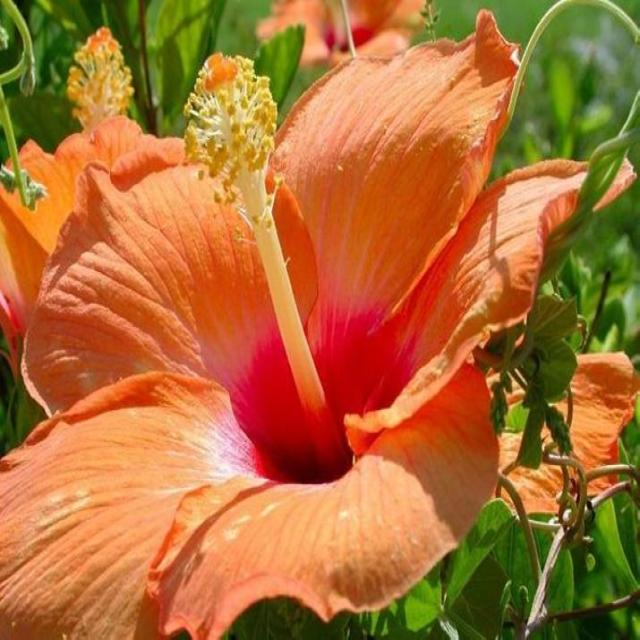hibiscus: (12, 30, 598, 640)
